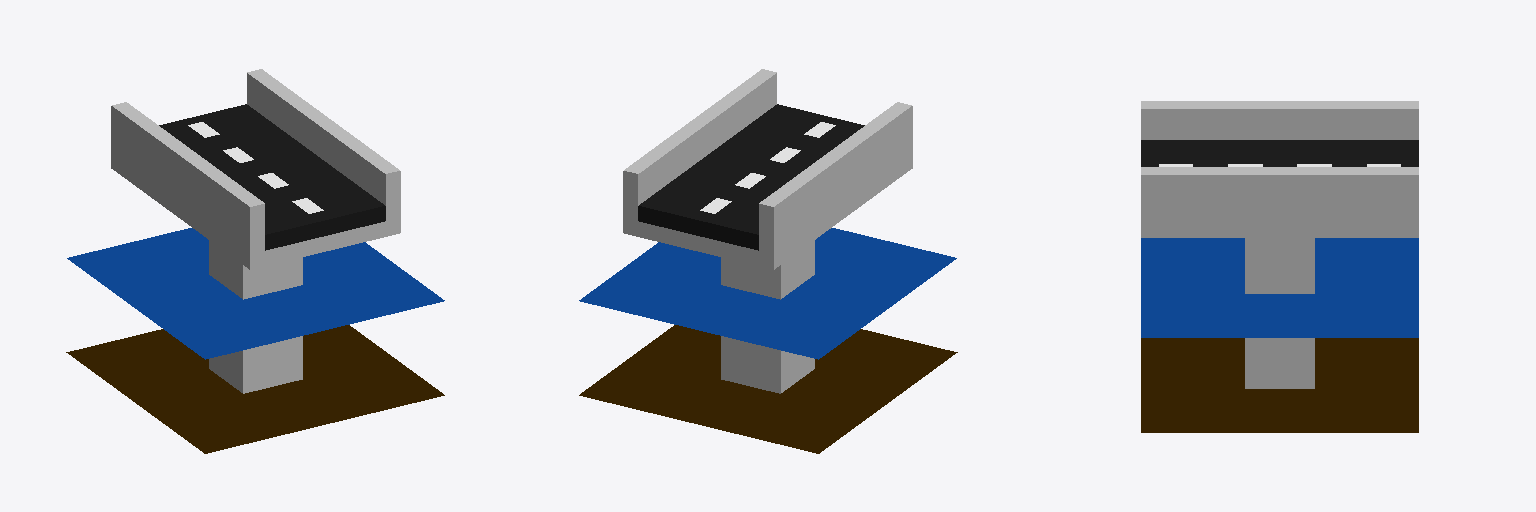
The picture shows the model from 3 angles: view 1: azimuth 30°, elevation 25°; view 2: azimuth 150°, elevation 25°; view 3: azimuth 270°, elevation 25°; orthographic projection.
Parts seen in each view (by area): view 1: beton, water, dirt, road, plane; view 2: beton, water, dirt, road, plane; view 3: beton, water, dirt, road.
Part boxes in pixels (x1,y1,x2,y2): beton: (111,69,400,393); water: (67,228,444,359); dirt: (66,325,444,453); road: (159,104,385,250); plane: (188,122,323,213); beton: (623,69,912,393); water: (579,228,956,359); dirt: (579,325,957,453); road: (638,104,864,250); plane: (700,122,835,213); beton: (1141,101,1418,388); water: (1141,238,1418,337); dirt: (1141,338,1418,432); road: (1141,140,1418,166).
Bounding box in the file's own units: 1 × 0.9375 × 1.
5 materials, 5 textured.